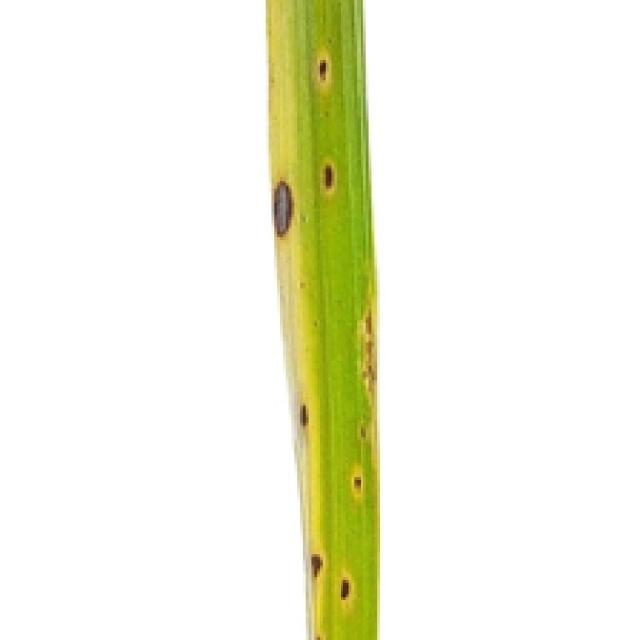Rice___Rice_Blast: (262, 0, 378, 637)
